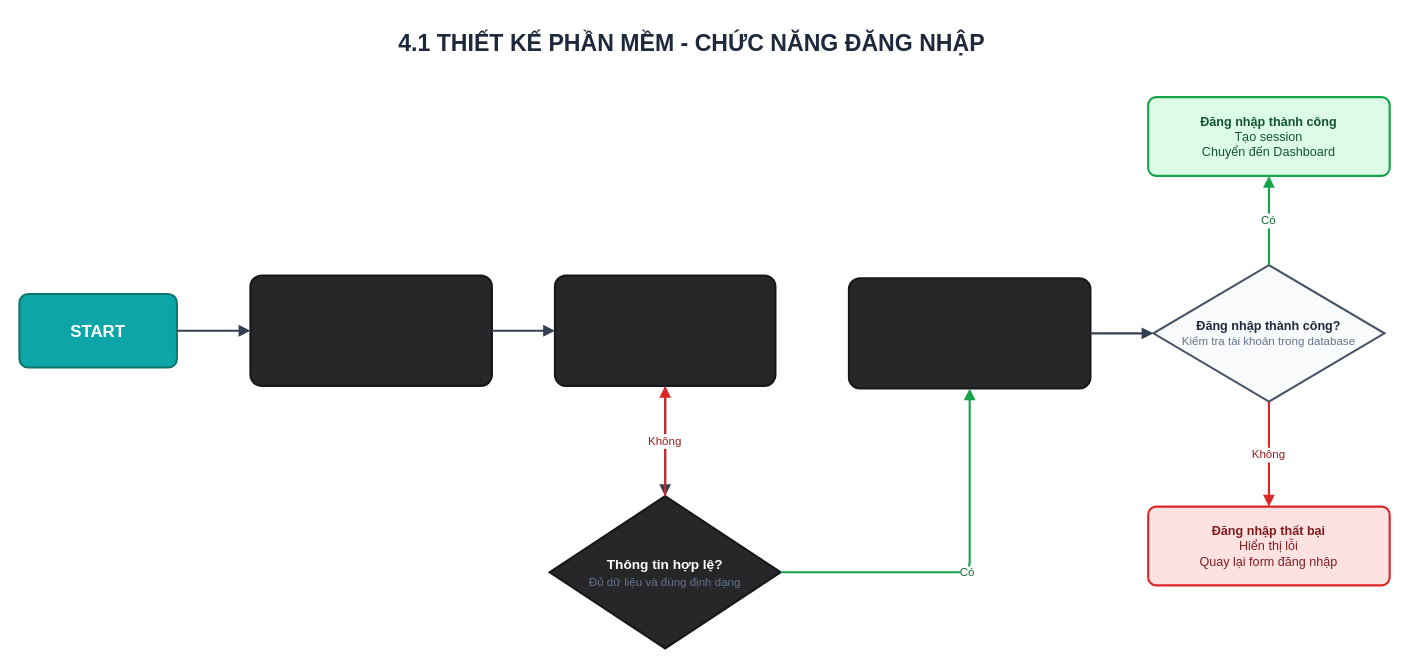
The diagram is 1408 pixels wide and 667 high, and some of its shapes have lost their labels. The shapes that lost their labels are listed below. From the top down, each one's centre as x and y in pixels, then its label:
At pixel 370 330: "Mở trang đăng nhập GET `/login` Hiển thị login.html".
At pixel 664 330: "Nhập thông tin Số điện thoại Mật khẩu Bấm Đăng nhập".
At pixel 969 333: "Gửi yêu cầu POST `/api/login` api_login() → authenticate_user()".
